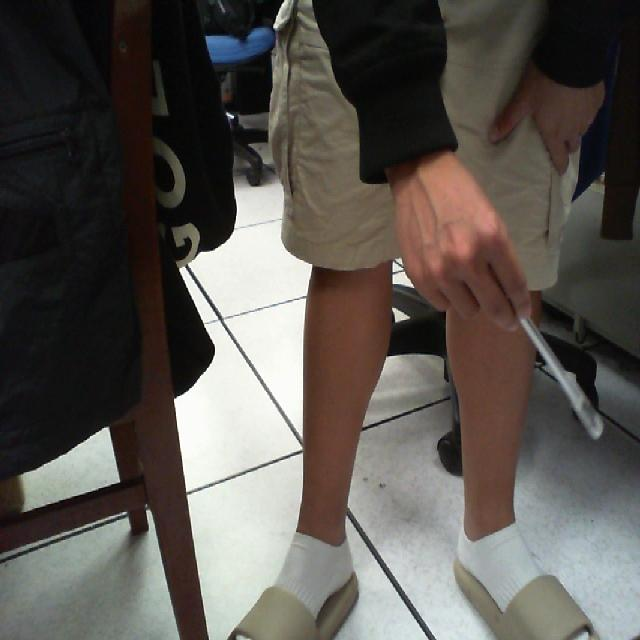Pen: (491, 291, 612, 448)
